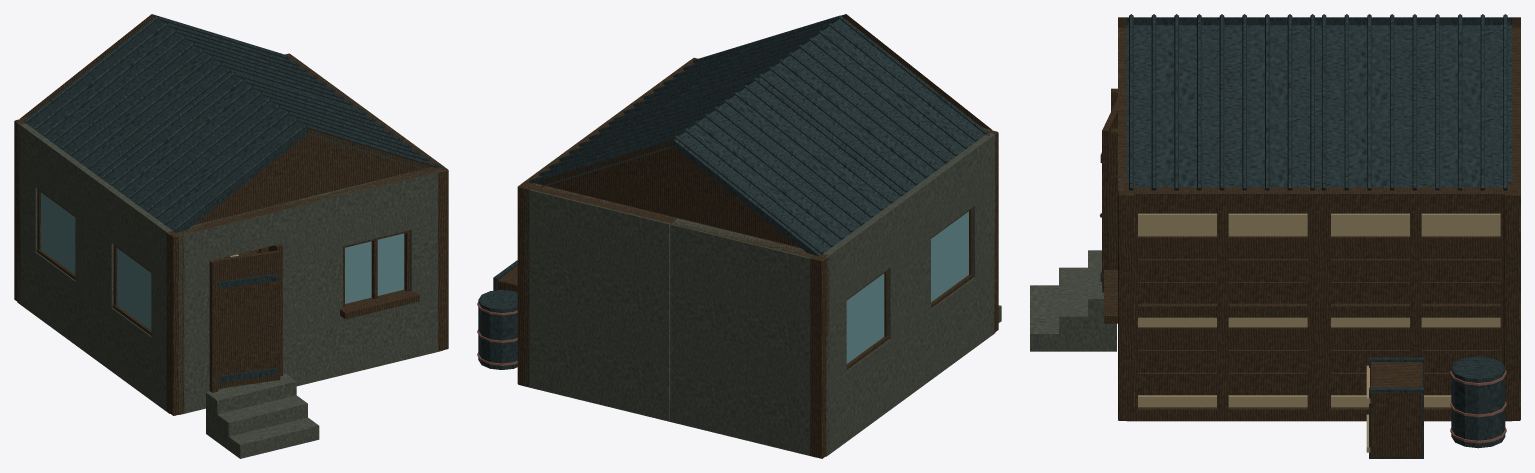
The model's file is Home_Prefab.glb.
3 views of the same model, side by side, from view 1: azimuth 30°, elevation 25°; view 2: azimuth 150°, elevation 25°; view 3: azimuth 270°, elevation 25° (orthographic). The views are drawn at different scales.
Parts seen in each view (by area): view 1: Home__Wall_Window_2m.002, Home__Roof_Slope_R_2x2, Home__Roof_Slope_R_2x2.001, Home__Wall_Doorway_2m, Home__Wall_Window_2m.001, Home__Wall_Window_2m, Home__Roof_Gable_4m, Home__Door_Timber_0p92x2p05, Home__Stairs_Concrete_3step, Home__Roof_Slope_L_2x2, Home__Roof_Slope_L_2x2.001, Home__Window_Frame_1x1 (+6 smaller); view 2: Home__Wall_Concrete_2m.001, Home__Wall_Concrete_2m, Home__Roof_Slope_R_2x2.001, Home__Roof_Slope_R_2x2, Home__Wall_Window_2m.001, Home__Wall_Window_2m, Home__Roof_Gable_4m.001, Home__Roof_Slope_L_2x2.001, Home__Roof_Slope_L_2x2, Home__Post_Timber_2p6m.001, Home__Barrel_Steel, Home__Window_Frame_1x1.002 (+5 smaller); view 3: Home__Wall_Timber_2m, Home__Wall_Timber_2m.001, Home__Roof_Slope_L_2x2, Home__Roof_Slope_L_2x2.001, Home__Stairs_Concrete_3step, Home__Supply_Crate, Home__Barrel_Steel, Home__Post_Timber_2p6m.003, Home__Post_Timber_2p6m.002, Home__Door_Timber_0p92x2p05, Home__Roof_Gable_4m, Home__Roof_Gable_4m.001 (+2 smaller).
Part boxes in pixels (x1,y1,x2,y2): Home__Wall_Window_2m.002: (305,168,443,382); Home__Roof_Slope_R_2x2: (99,72,307,232); Home__Roof_Slope_R_2x2.001: (23,16,231,176); Home__Wall_Doorway_2m: (177,198,311,414); Home__Wall_Window_2m.001: (17,122,98,357); Home__Wall_Window_2m: (93,177,172,413); Home__Roof_Gable_4m: (176,128,441,235); Home__Door_Timber_0p92x2p05: (216,250,280,389); Home__Stairs_Concrete_3step: (206,373,319,458); Home__Roof_Slope_L_2x2: (234,71,438,170); Home__Roof_Slope_L_2x2.001: (157,16,362,110); Home__Window_Frame_1x1: (343,230,410,307); Home__Wall_Concrete_2m.001: (524,183,674,421); Home__Wall_Concrete_2m: (670,218,814,457); Home__Roof_Slope_R_2x2.001: (673,78,903,256); Home__Roof_Slope_R_2x2: (758,16,988,194); Home__Wall_Window_2m.001: (823,194,910,456); Home__Wall_Window_2m: (904,133,995,394); Home__Roof_Gable_4m.001: (524,140,815,258); Home__Roof_Slope_L_2x2.001: (529,77,755,187); Home__Roof_Slope_L_2x2: (613,15,840,120); Home__Post_Timber_2p6m.001: (810,254,829,458); Home__Barrel_Steel: (477,289,517,369); Home__Window_Frame_1x1.002: (846,269,888,363); Home__Wall_Timber_2m: (1127,187,1319,421); Home__Wall_Timber_2m.001: (1319,187,1512,421); Home__Roof_Slope_L_2x2: (1126,15,1319,190); Home__Roof_Slope_L_2x2.001: (1319,15,1512,190); Home__Stairs_Concrete_3step: (1030,250,1116,351); Home__Supply_Crate: (1366,357,1423,458); Home__Barrel_Steel: (1450,356,1506,448); Home__Post_Timber_2p6m.003: (1503,187,1520,420); Home__Post_Timber_2p6m.002: (1118,187,1134,420); Home__Door_Timber_0p92x2p05: (1100,98,1117,292); Home__Roof_Gable_4m: (1118,17,1135,190); Home__Roof_Gable_4m.001: (1504,17,1520,190).
Size of the model in its own units: 5.09 by 4.04 by 5.09.
11 materials, 5 textured.
